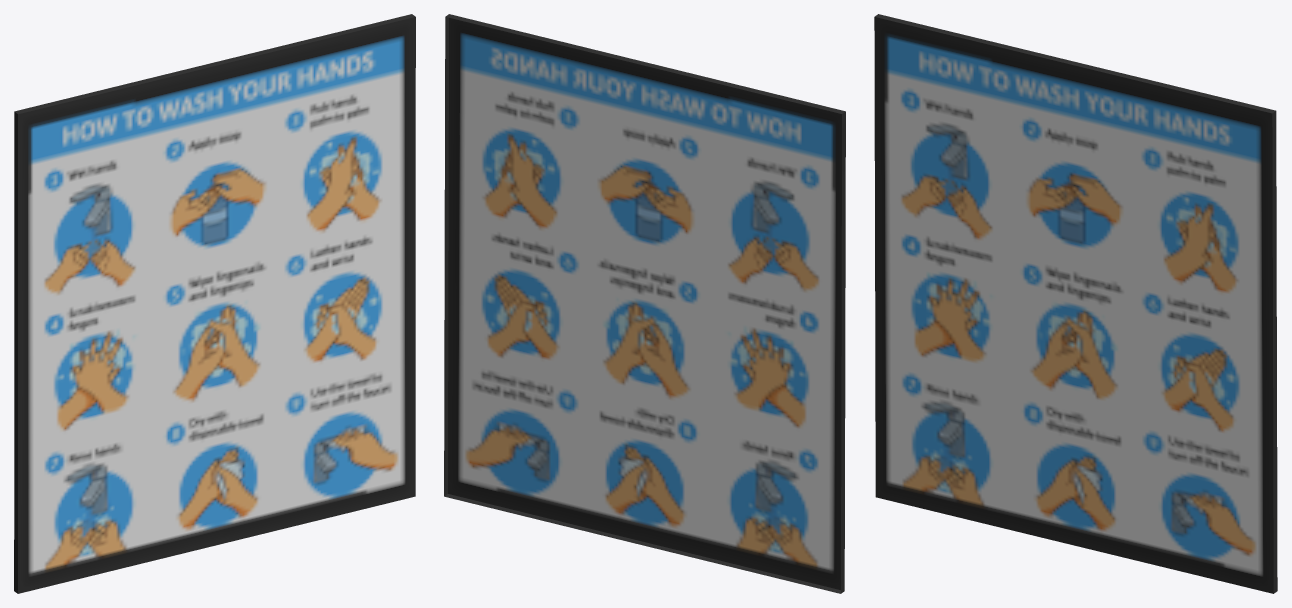
Rendered from PaintingB.fbx.
3 views of the same model, side by side, from view 1: azimuth 30°, elevation 25°; view 2: azimuth 150°, elevation 25°; view 3: azimuth 330°, elevation 25° (orthographic).
Visible parts, largest first — view 1: PaintingB; view 2: PaintingB; view 3: PaintingB.
Boxes of the visible parts, x1,y1,x2,y2 form: PaintingB: (14,14,415,593); PaintingB: (444,14,845,593); PaintingB: (874,14,1277,593).
Bounding box in the file's own units: 66.77 × 77.05 × 1.33.
1 material, 1 textured.
